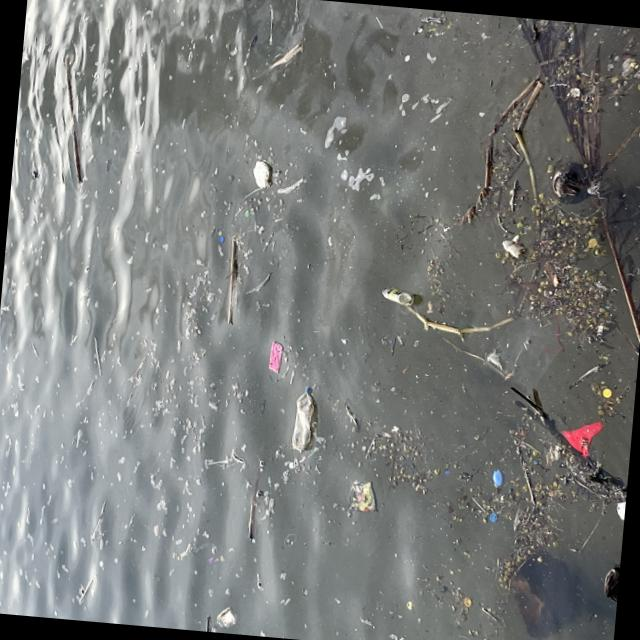foam: (252, 159, 272, 188), (613, 498, 625, 519)
plastic: (290, 384, 316, 451), (379, 286, 413, 304), (502, 238, 524, 257)
plastic bottle: (346, 480, 378, 513)
unknow: (481, 299, 579, 388), (560, 416, 605, 456), (267, 340, 284, 372)
